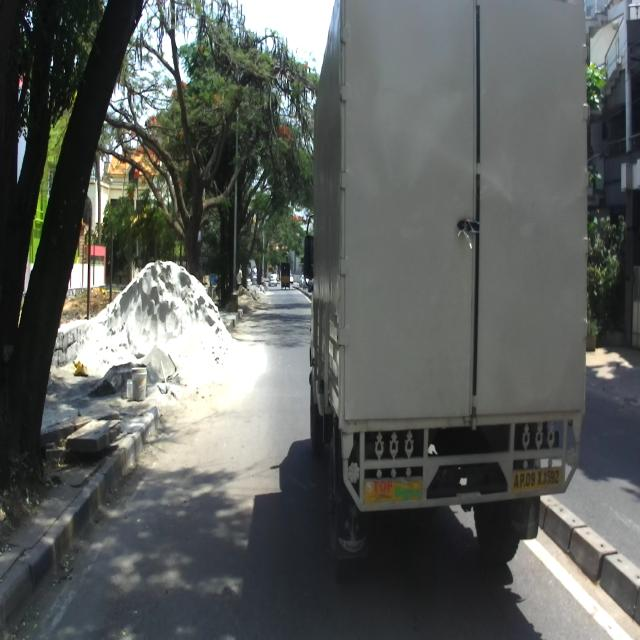tree ahead at: (0, 0, 90, 478)
truck ahead at: (311, 1, 589, 572)
